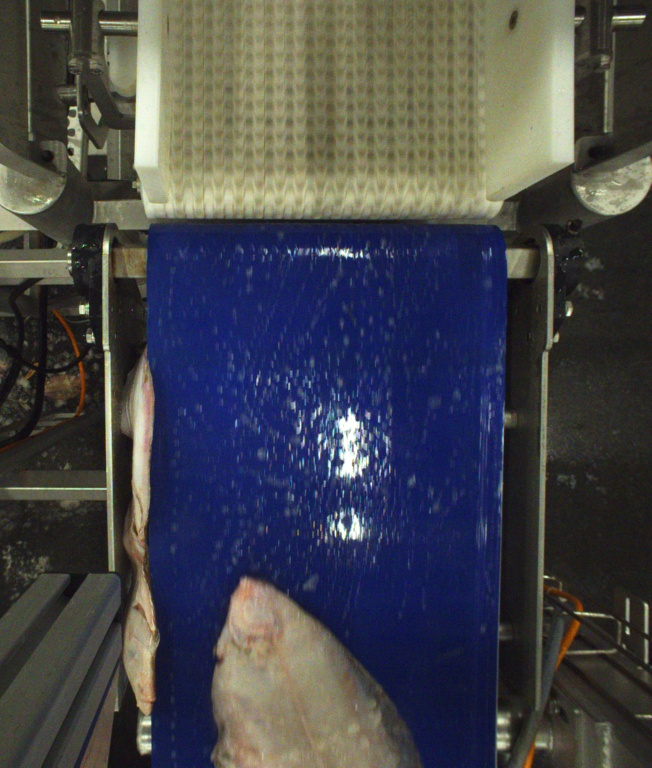WIT: (208, 578, 428, 768)
